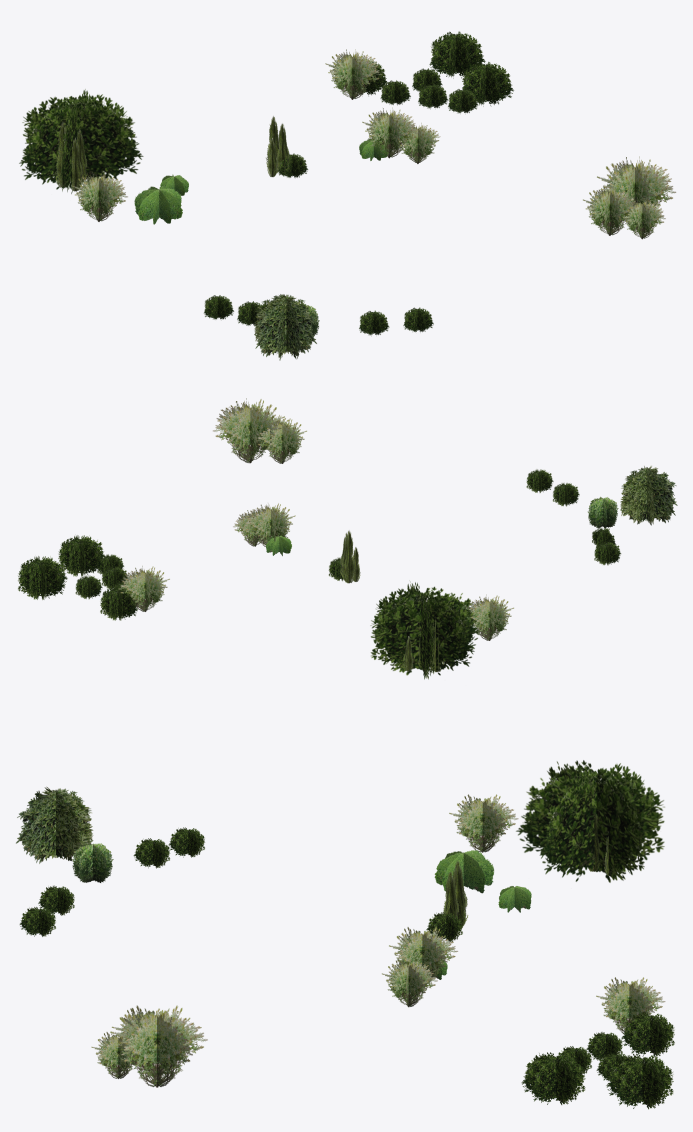
File: Zen_Bush.glb
3 renders of one model, top to bottom at view 1: azimuth 30°, elevation 25°; view 2: azimuth 150°, elevation 25°; view 3: azimuth 270°, elevation 25°, orthographic. The views are drawn at different scales.
Parts seen in each view (by area): view 1: Bush 02.002, Bush 01, Bush 03.004, Bush 02.008, Bush 03.005, Bush 03.006, Bush 03, Bush 02.007, Bush 03.002, Bush 06.001, Bush 03.003, Bush 03.001 (+7 smaller); view 2: Bush 02.002, Bush 03.004, Bush 01, Bush 02.008, Bush 02.007, Bush 03.006, Bush 03.002, Bush 03.005, Bush 03, Bush 02.009, Bush 05, Bush 04.002 (+5 smaller); view 3: Bush 02.002, Bush 03.004, Bush 01, Bush 02.008, Bush 02.007, Bush 03.005, Bush 03.006, Bush 03, Bush 02.009, Bush 06.001, Bush 03.001, Bush 05 (+8 smaller).
Boxes of the visible parts, x1,y1,x2,y2 form: Bush 02.002: (19,89,143,193); Bush 01: (254,294,316,360); Bush 03.004: (597,156,675,222); Bush 02.008: (429,31,485,78); Bush 03.005: (72,171,127,221); Bush 03.006: (325,49,381,99); Bush 03: (362,107,418,158); Bush 02.007: (462,62,513,106); Bush 03.002: (583,185,636,235); Bush 06.001: (134,186,182,224); Bush 03.003: (622,198,665,239); Bush 03.001: (399,123,440,163); Bush 02.002: (370,581,480,679); Bush 03.004: (213,398,284,463); Bush 01: (620,465,677,525); Bush 02.008: (18,556,67,599); Bush 02.007: (58,535,104,576); Bush 03.006: (119,566,169,611); Bush 03.002: (256,418,306,463); Bush 03.005: (467,594,513,640); Bush 03: (244,503,295,546); Bush 02.009: (100,586,138,620); Bush 05: (587,496,618,528); Bush 04.002: (341,530,355,583); Bush 02.002: (516,760,664,882); Bush 03.004: (110,1005,207,1087); Bush 01: (16,787,93,863); Bush 02.008: (606,1053,673,1109); Bush 02.007: (521,1052,585,1104); Bush 03.005: (449,794,518,852); Bush 03.006: (596,977,665,1033); Bush 03: (389,927,457,983); Bush 02.009: (621,1012,674,1056); Bush 06.001: (434,850,494,893); Bush 03.001: (382,958,437,1007); Bush 05: (71,843,113,882).
Bounding box in the file's own units: 31.74 × 7.21 × 31.68.
Materials: 1 (1 with a texture image).
